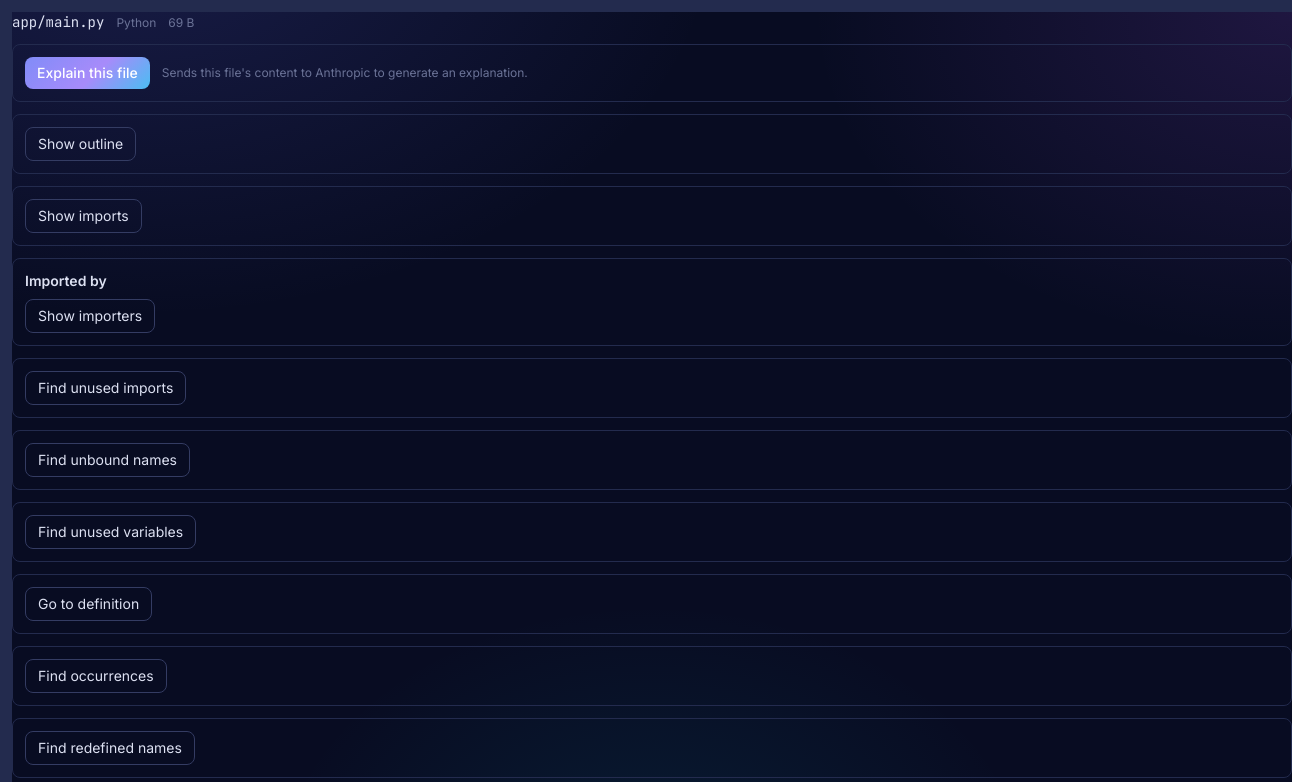
it: CodeDefinition results › keeps duplicate ambiguous definitions as returned
Click the button "Go to definition" at (89, 604), box [25,587,152,621]
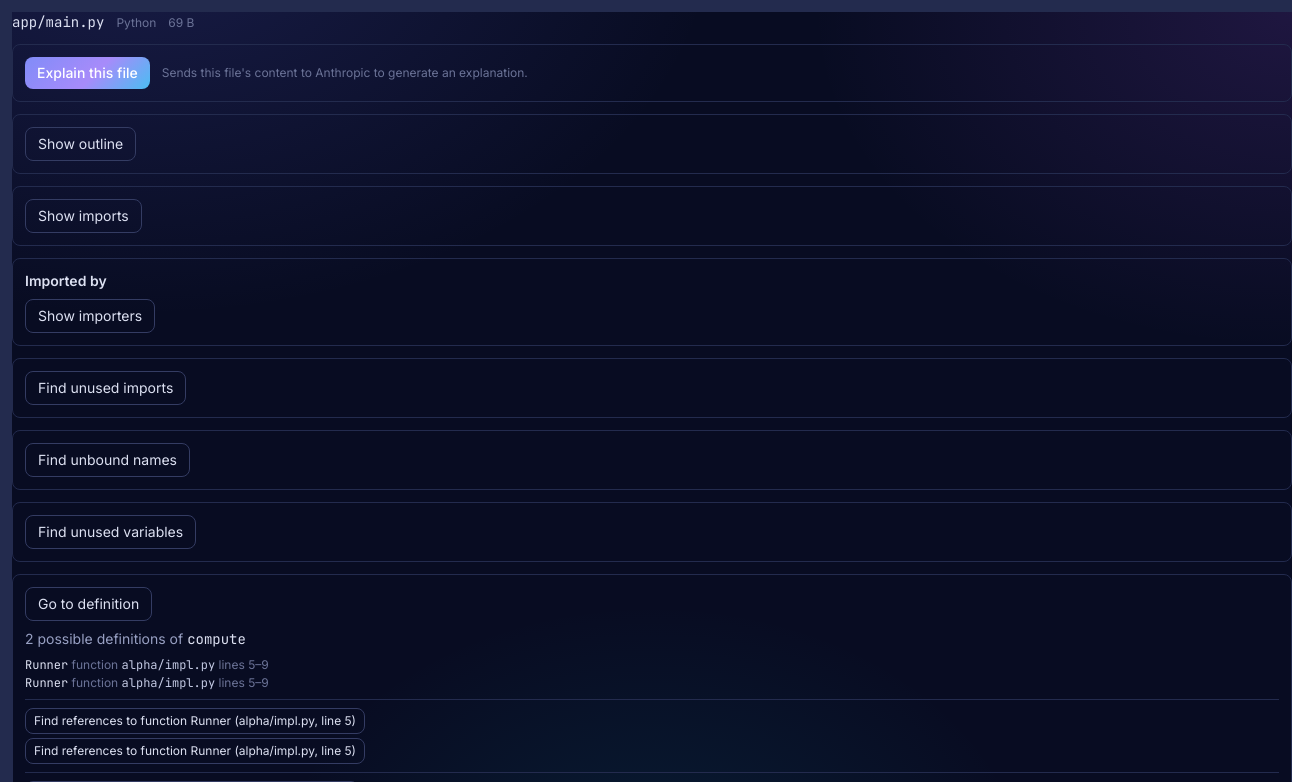
Now the number of list items with test id "definition" is 2, box [25,657,269,673]; [25,675,269,691]
